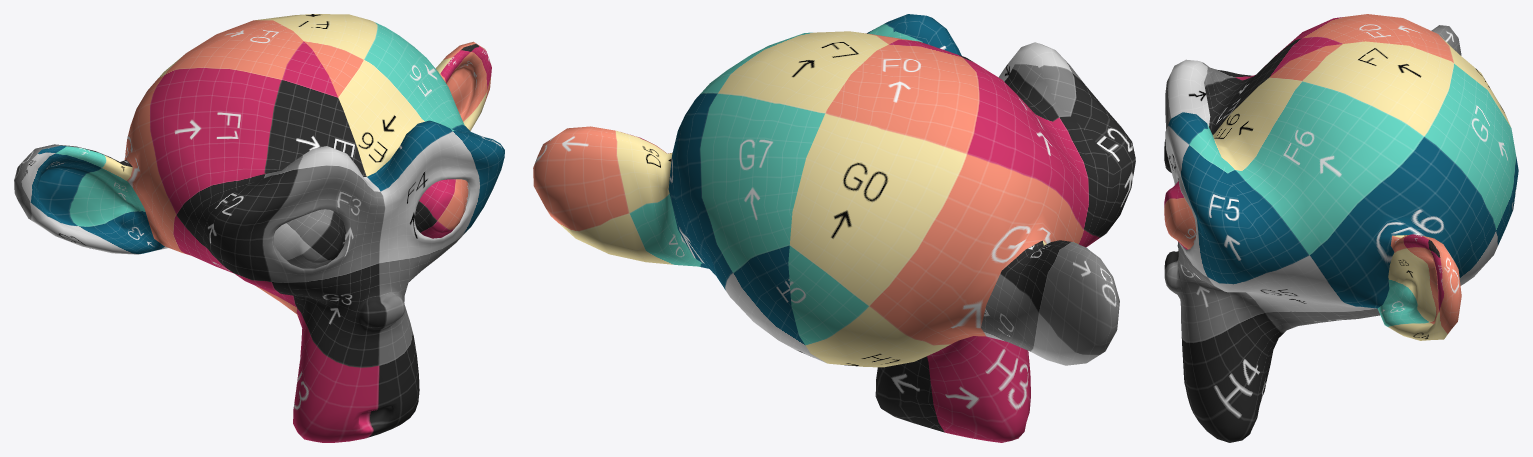
Rendered from texturedHead.gltf.
3 views of the same model, side by side, from view 1: azimuth 30°, elevation 25°; view 2: azimuth 150°, elevation 25°; view 3: azimuth 270°, elevation 25° (orthographic). The views are drawn at different scales.
Visible parts, largest first — view 1: Suzanne; view 2: Suzanne; view 3: Suzanne.
Boxes of the visible parts, x1=… form: Suzanne: x1=14, y1=14, x2=504, y2=442; Suzanne: x1=533, y1=14, x2=1135, y2=442; Suzanne: x1=1164, y1=14, x2=1518, y2=442.
Size of the model in its own units: 2.65 by 1.91 by 1.6.
Materials: 1 (1 with a texture image).
